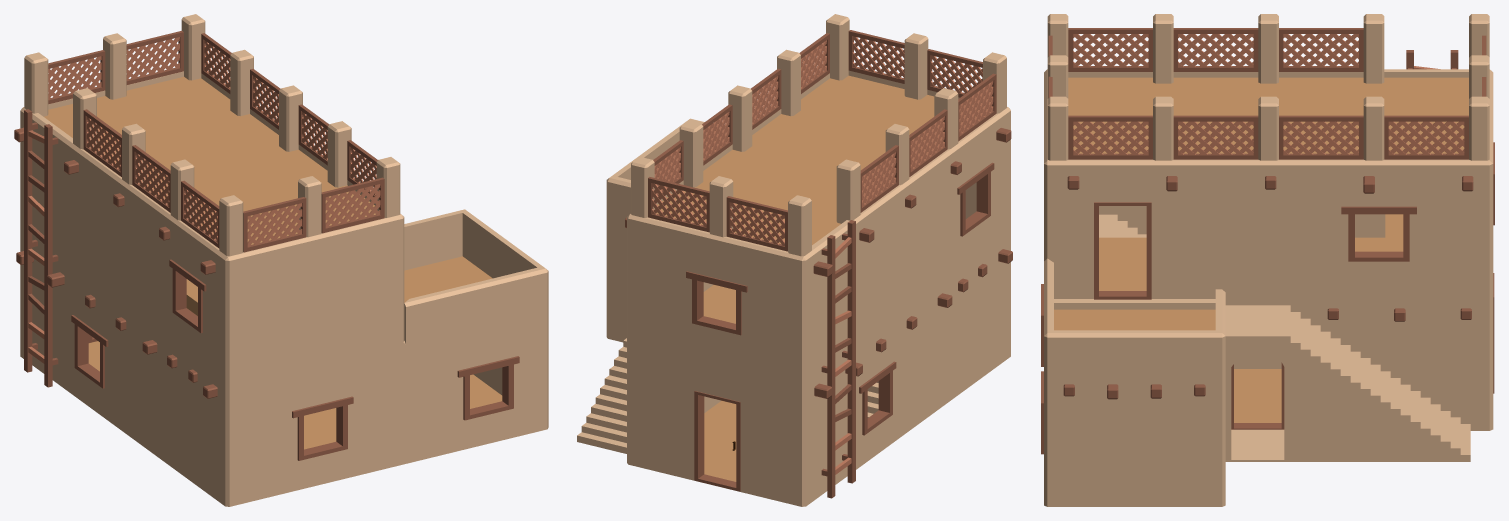
Rendered from Large Building Frame C.fbx.
The picture shows the model from 3 angles, left to right: view 1: azimuth 30°, elevation 25°; view 2: azimuth 150°, elevation 25°; view 3: azimuth 270°, elevation 25°; orthographic projection. The views are drawn at different scales.
Visible parts, largest first — view 1: Large Building Frame C; view 2: Large Building Frame C; view 3: Large Building Frame C.
Part boxes in pixels (box(x1,y1,x2,y2)): Large Building Frame C: box(14, 14, 548, 506); Large Building Frame C: box(577, 14, 1012, 506); Large Building Frame C: box(1041, 14, 1494, 506).
Size of the model in its own units: 953 by 789 by 999.
